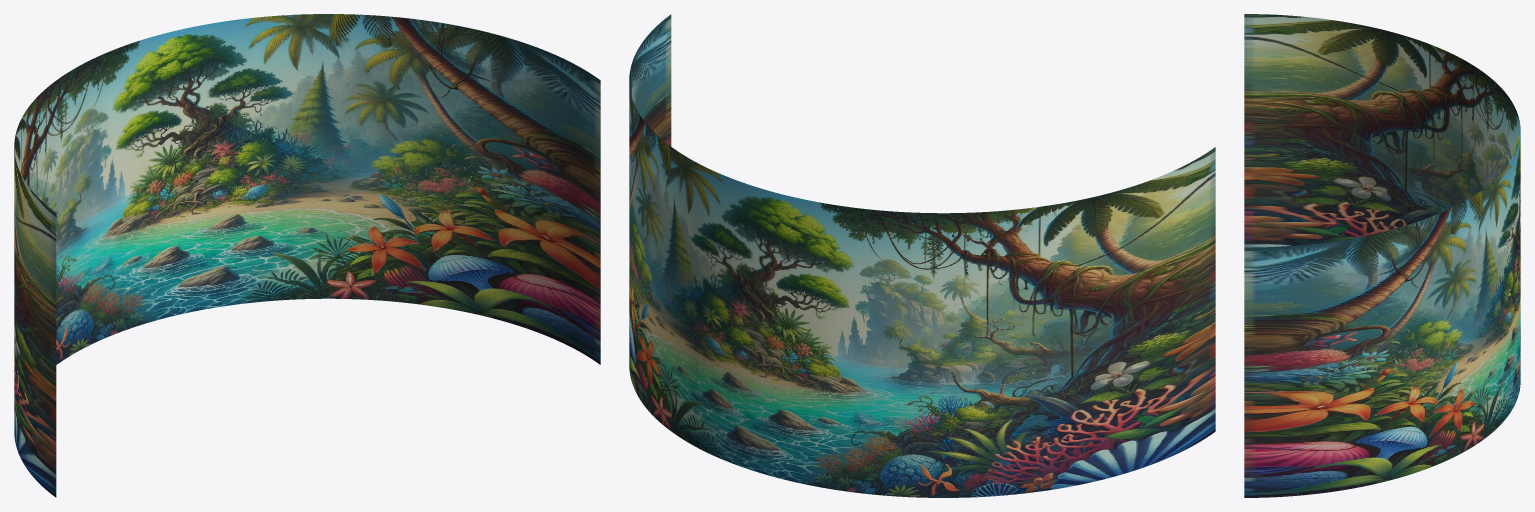
The model's file is Background_fbx_common_textured.fbx.
3 views of the same model, side by side, from view 1: azimuth 30°, elevation 25°; view 2: azimuth 150°, elevation 25°; view 3: azimuth 270°, elevation 25° (orthographic). The views are drawn at different scales.
Visible parts, largest first — view 1: Obj; view 2: Obj; view 3: Obj.
Part boxes in pixels (left/top/right/bottom): Obj: left=14, top=14, right=600, bottom=497; Obj: left=629, top=14, right=1215, bottom=497; Obj: left=1244, top=14, right=1520, bottom=497.
Size of the model in its own units: 200 by 100 by 100.
1 material, 1 textured.
